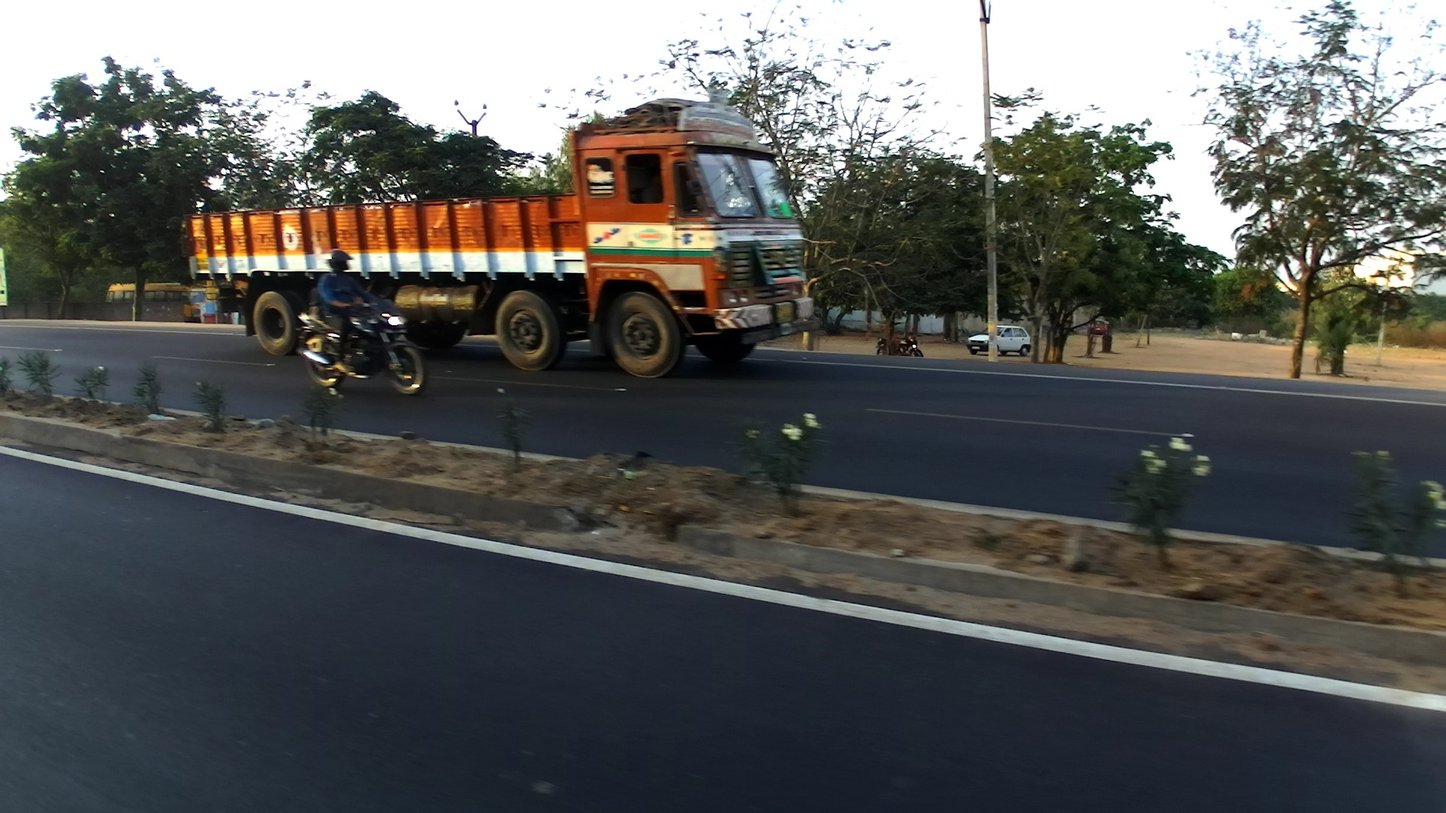bus: (106, 282, 195, 327)
car: (966, 322, 1031, 359), (1087, 319, 1109, 336)
motorcycle: (296, 291, 429, 394), (874, 330, 921, 361)
rider: (311, 250, 387, 400)
truck: (184, 98, 813, 379)
vehicle fallback: (186, 279, 208, 321)
